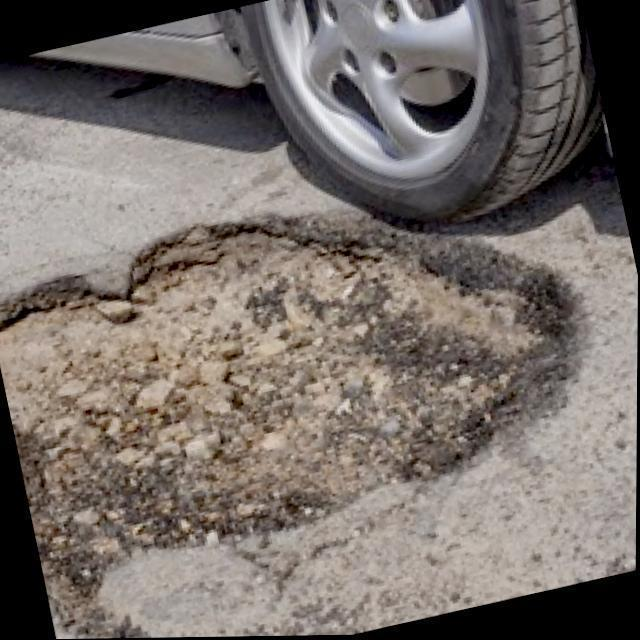Pothole: (0, 224, 574, 639)
